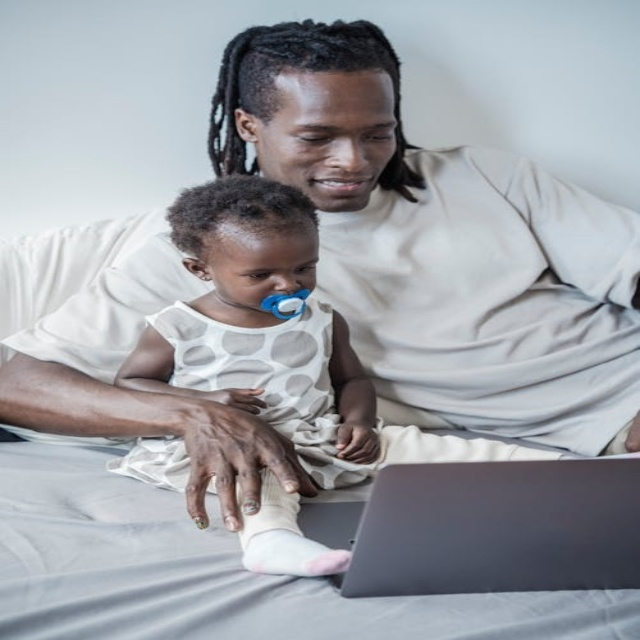Sin_gafas: (283, 117, 398, 151), (232, 257, 323, 283)
Sin_guantes: (169, 400, 316, 528), (332, 418, 382, 464)
Sin_mascara: (303, 169, 384, 203)
